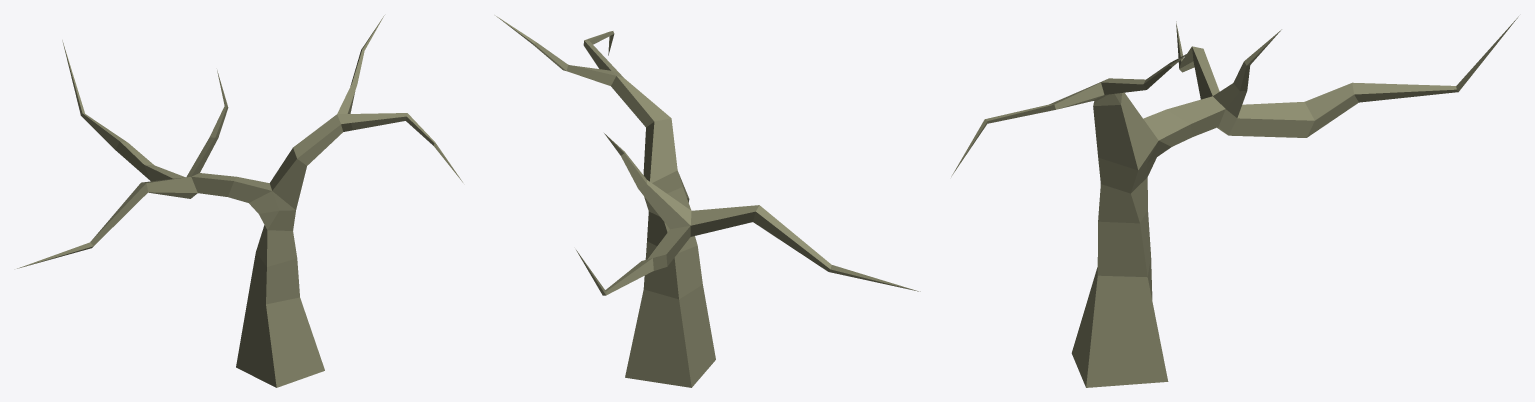
The model's file is Dead_Tree_m_05_LOD.fbx.
3 renders of one model, left to right at view 1: azimuth 30°, elevation 25°; view 2: azimuth 150°, elevation 25°; view 3: azimuth 270°, elevation 25°, orthographic. The views are drawn at different scales.
Visible parts, largest first — view 1: Dead_Tree_m_05_LOD0; view 2: Dead_Tree_m_05_LOD0; view 3: Dead_Tree_m_05_LOD0.
Boxes of the visible parts, x1=… form: Dead_Tree_m_05_LOD0: x1=17, y1=15, x2=462, y2=387; Dead_Tree_m_05_LOD0: x1=495, y1=15, x2=920, y2=387; Dead_Tree_m_05_LOD0: x1=951, y1=16, x2=1518, y2=387.
Size of what is drawn, in the model's own units: 652 by 502 by 650.
